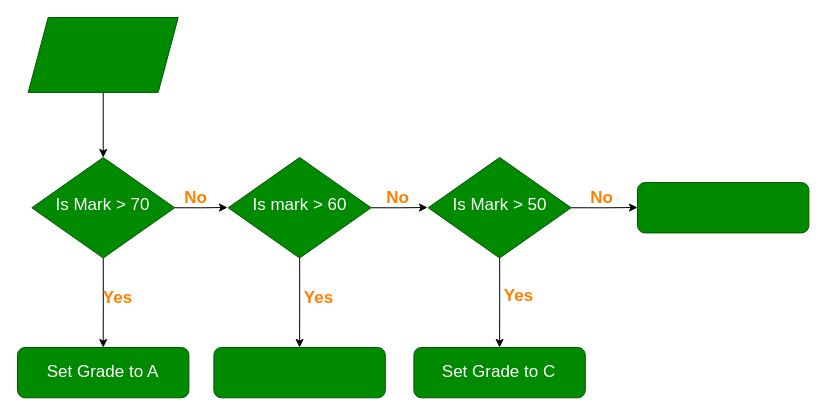
The diagram is 827 pixels wide and 416 high, and some of its shapes have lost their labels. Each missing label, with the centre of its shape:
"Get Percentage Mark" goes at [102,54].
"Set Grade to B" goes at [299,372].
"Set Grade to F" goes at [722,207].
